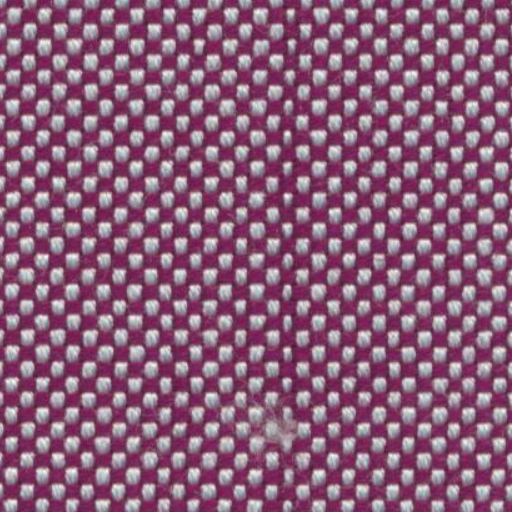TuoSha: (256, 3, 334, 506)
